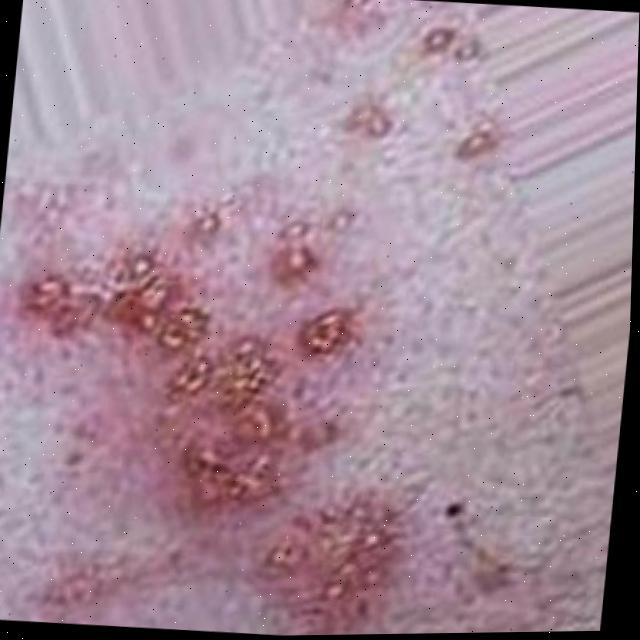Shingles: (0, 163, 424, 640), (359, 102, 397, 134), (422, 27, 454, 56), (456, 128, 486, 152)
